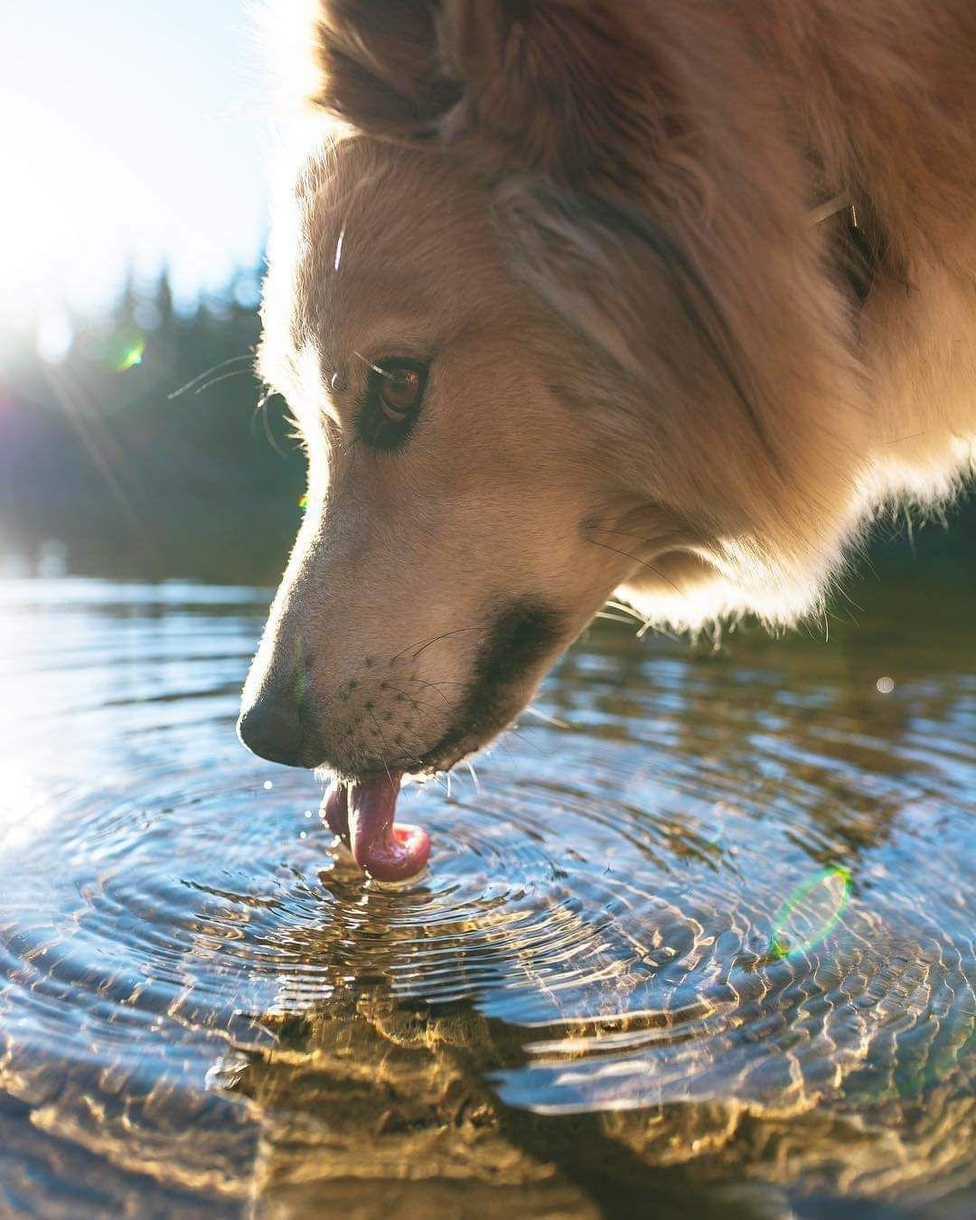adult_dog: (231, 0, 976, 884)
